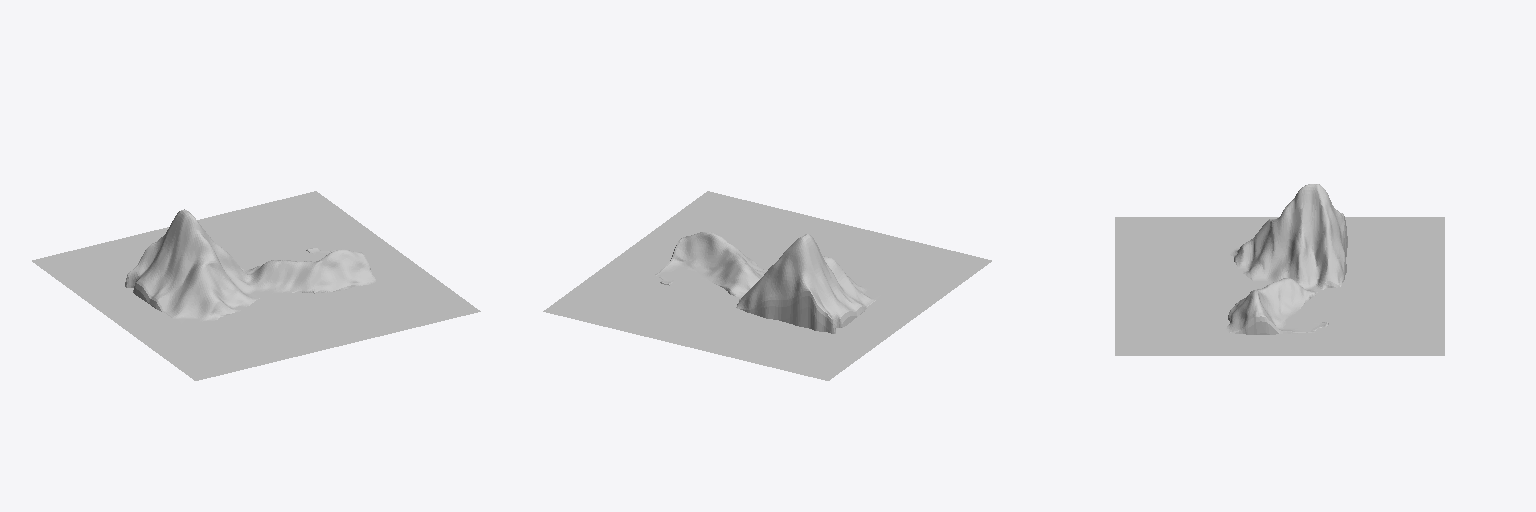
File: mapv8.obj
3 views of the same model, side by side, from view 1: azimuth 30°, elevation 25°; view 2: azimuth 150°, elevation 25°; view 3: azimuth 270°, elevation 25° (orthographic).
Size of the model in its own units: 3000 by 919 by 3000.